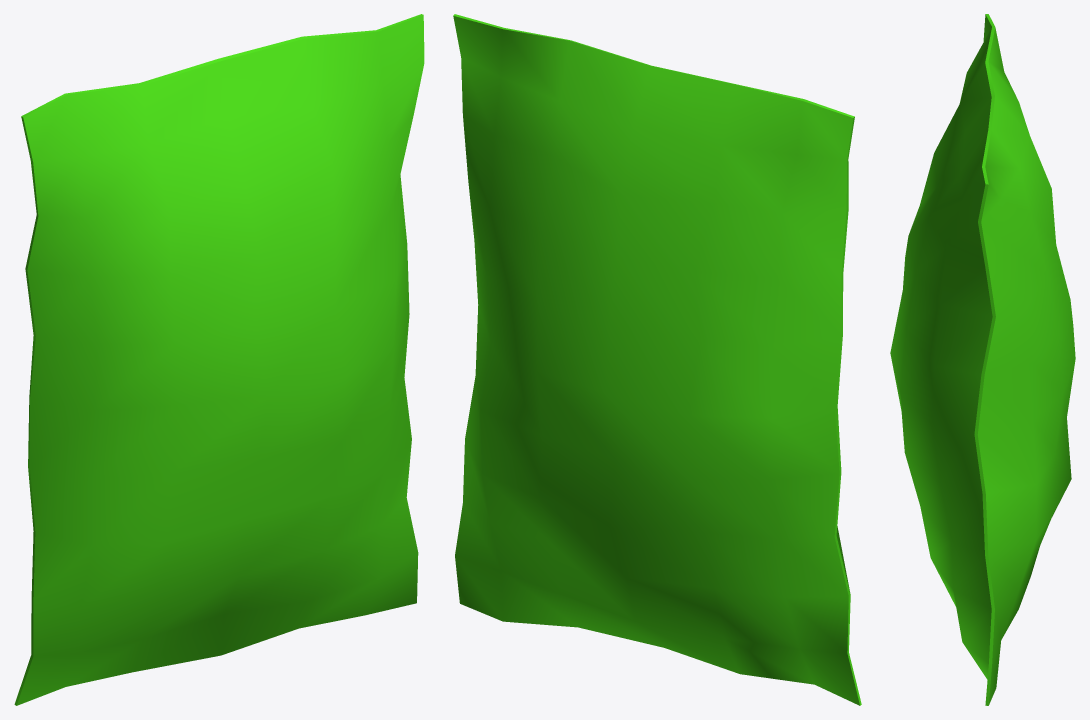
The model's file is SacchettoPatatineSpicy.fbx.
The picture shows the model from 3 angles, left to right: view 1: azimuth 30°, elevation 25°; view 2: azimuth 150°, elevation 25°; view 3: azimuth 270°, elevation 25°; orthographic projection. The views are drawn at different scales.
Parts seen in each view (by area): view 1: SacchettoChips.002; view 2: SacchettoChips.002; view 3: SacchettoChips.002.
Boxes of the visible parts, x1,y1,x2,y2 form: SacchettoChips.002: (14,14,424,705); SacchettoChips.002: (453,14,861,705); SacchettoChips.002: (890,14,1075,705).
Size of the model in its own units: 187 by 261 by 82.28.
